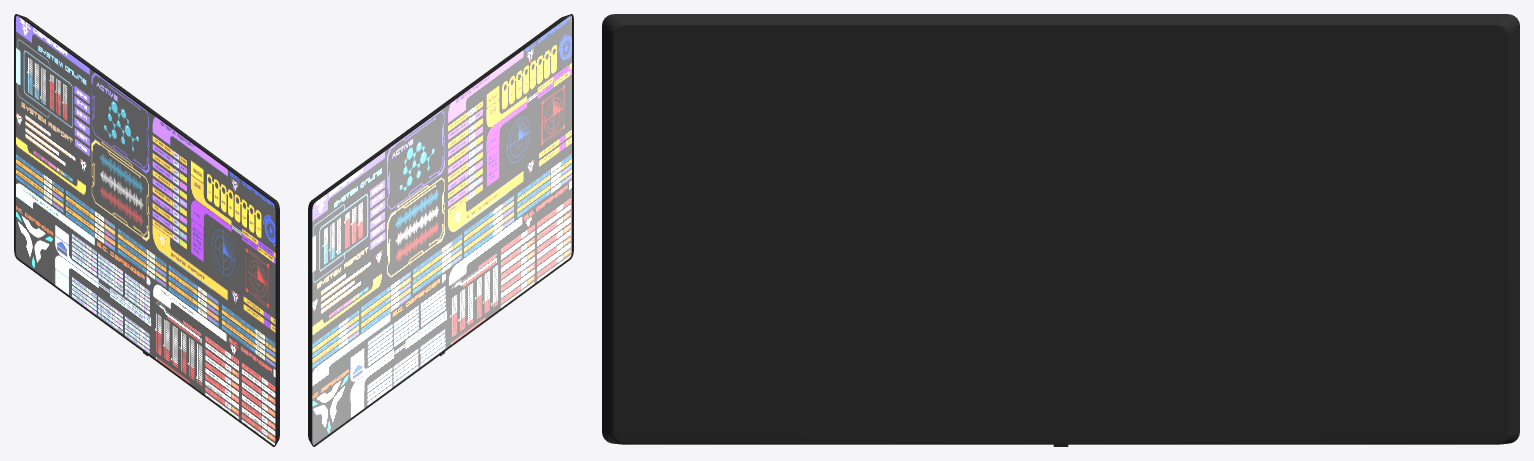
The picture shows the model from 3 angles, left to right: view 1: azimuth 30°, elevation 25°; view 2: azimuth 150°, elevation 25°; view 3: azimuth 270°, elevation 25°; orthographic projection. The views are drawn at different scales.
Visible parts, largest first — view 1: SM_TV-2_LOD0; view 2: SM_TV-2_LOD0; view 3: SM_TV-2_LOD0.
Part boxes in pixels (left/top/right/bottom): SM_TV-2_LOD0: left=14, top=14, right=279, bottom=446; SM_TV-2_LOD0: left=308, top=14, right=573, bottom=446; SM_TV-2_LOD0: left=602, top=14, right=1519, bottom=446.
Size of the model in its own units: 2.91 by 96.87 by 186.
2 materials, 1 textured.
